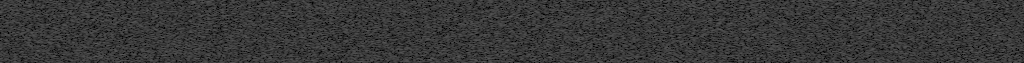wv_cw: (843, 0, 847, 63)
wv_lsb: (789, 1, 795, 63)
wv_usb: (879, 37, 883, 63), (878, 3, 884, 19), (799, 23, 804, 37), (799, 38, 803, 54), (879, 20, 883, 31), (799, 9, 803, 18), (799, 56, 804, 63), (799, 0, 804, 4), (879, 32, 883, 36), (799, 5, 804, 8), (799, 19, 803, 22)
